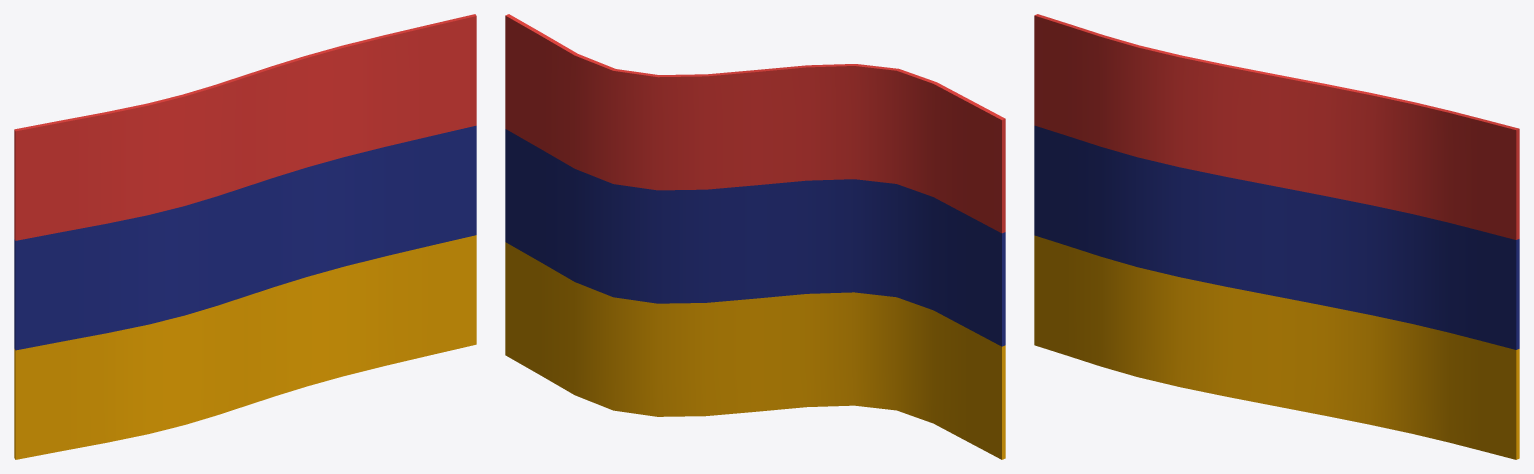
The model's file is flag_armenia.glb.
3 views of the same model, side by side, from view 1: azimuth 30°, elevation 25°; view 2: azimuth 150°, elevation 25°; view 3: azimuth 330°, elevation 25° (orthographic). The views are drawn at different scales.
Visible parts, largest first — view 1: flag_armenia; view 2: flag_armenia; view 3: flag_armenia.
Boxes of the visible parts, x1,y1,x2,y2 form: flag_armenia: (14,14,476,459); flag_armenia: (505,14,1005,459); flag_armenia: (1034,14,1519,459).
Bounding box in the file's own units: 2.18 × 1.58 × 0.3373.
Materials: 1 (1 with a texture image).
